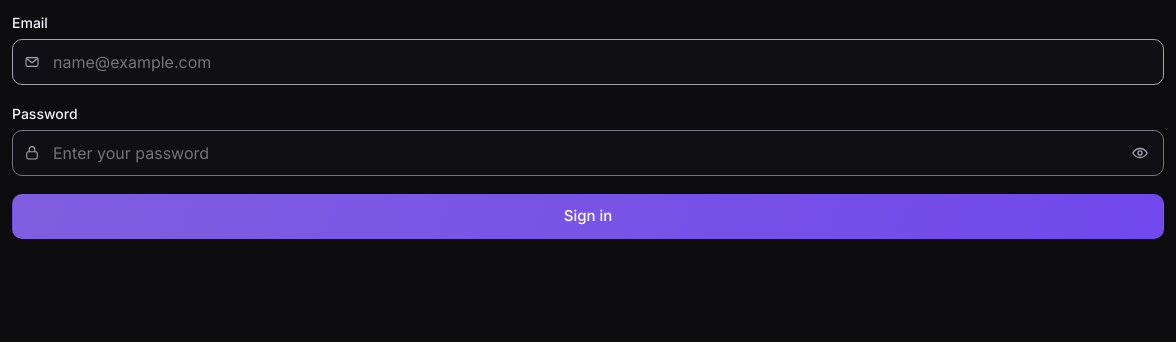
Scenario: SignInForm › on wrong credentials keeps the email, clears the password and focuses it
Type "john@example.com" into the field with id "email" at (588, 62), box left=12, top=39, right=1164, bottom=85
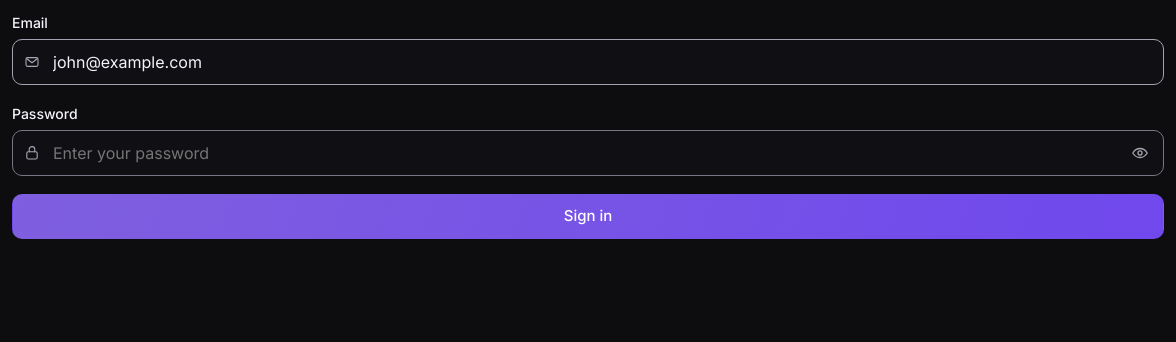
Type "wrong" into the password field labelled "Password" at (588, 153), box left=12, top=130, right=1164, bottom=176
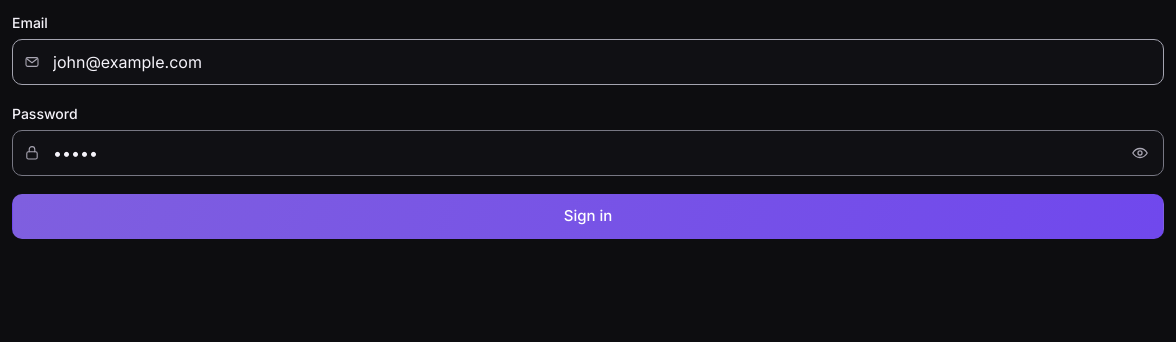
Submit the form
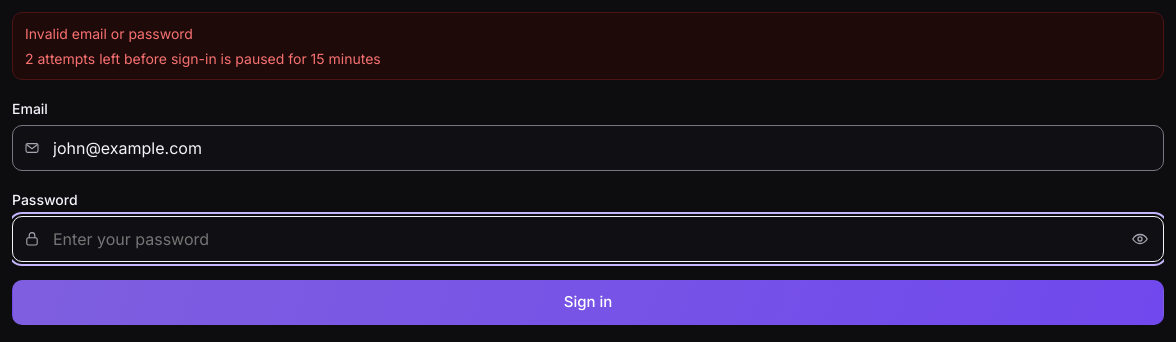
expect the message shows "2 attempts left": met, box left=25, top=50, right=381, bottom=67
expect the password field labelled "Password" is empty: met, box left=12, top=216, right=1164, bottom=262
